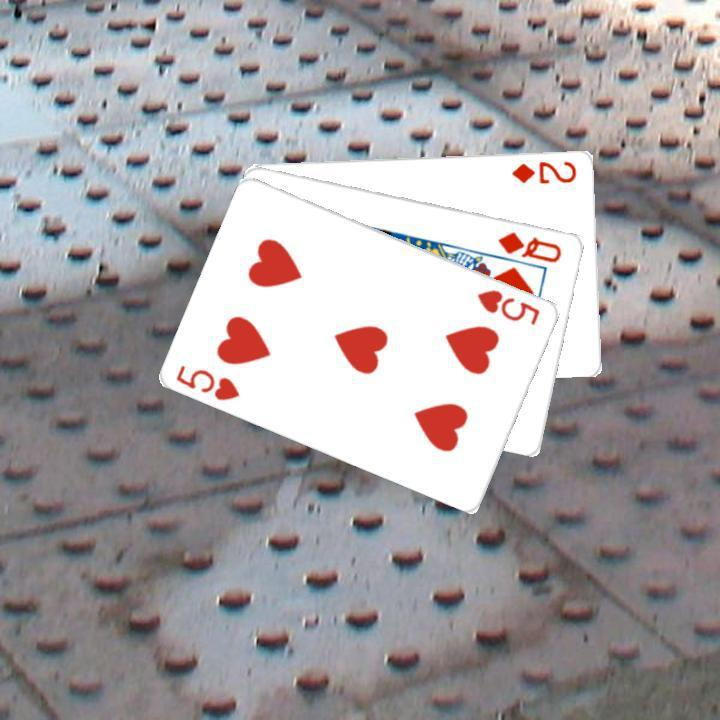2: (508, 156, 579, 185)
5: (473, 284, 543, 328), (172, 360, 243, 403)
Q: (494, 226, 564, 265)
